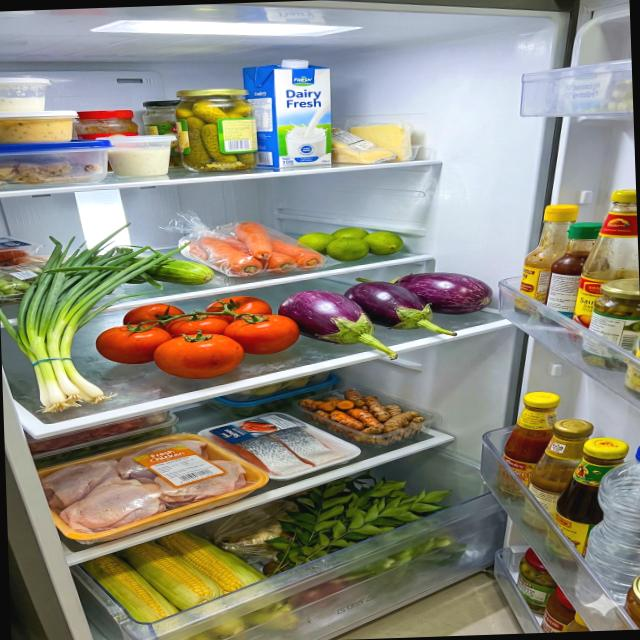carrot: (188, 218, 324, 279)
chicken: (38, 438, 248, 534)
corn: (79, 526, 270, 624)
cucumber: (127, 252, 214, 286)
curry_leaves: (258, 466, 456, 579)
eggplant: (276, 270, 496, 364)
fish: (210, 424, 348, 478)
lime: (294, 225, 404, 263)
spring_onion: (0, 220, 197, 414)
tomato: (94, 294, 302, 382)
turmeric: (299, 386, 425, 448)
